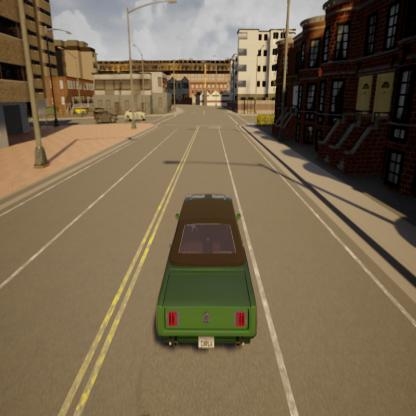Cars: (144, 184, 266, 360), (118, 105, 150, 126), (94, 108, 119, 126), (70, 105, 88, 117)
